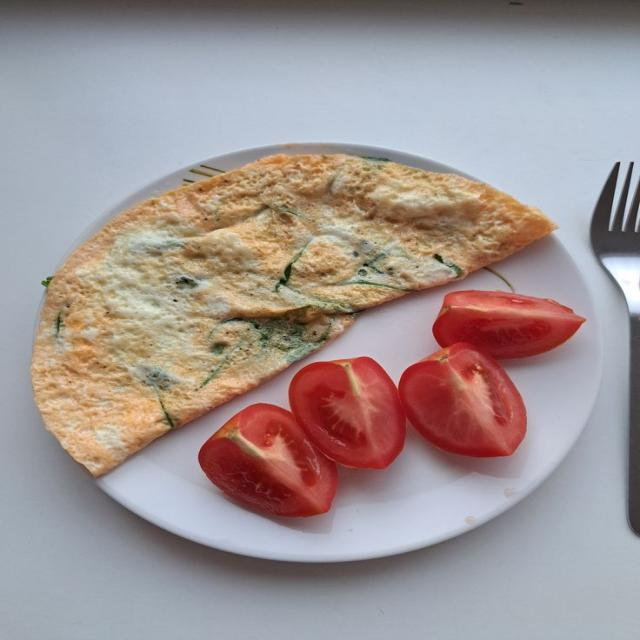omelette: (32, 155, 554, 475)
